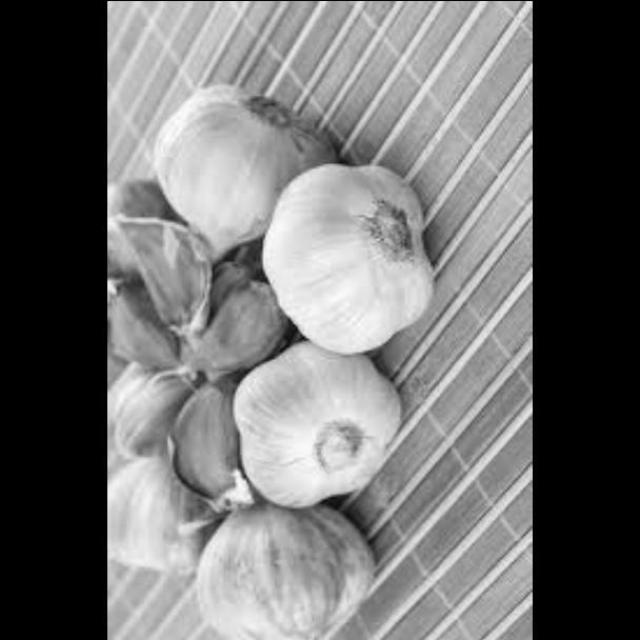toi: (260, 150, 428, 357), (219, 336, 408, 519), (146, 86, 330, 255), (183, 492, 370, 640), (106, 208, 218, 335), (106, 452, 206, 584), (157, 372, 251, 512), (175, 274, 278, 387), (106, 313, 180, 452)
